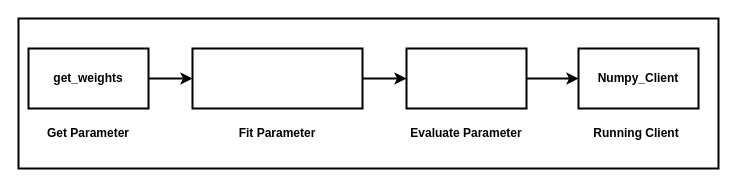
Image size: 736x186. Some labels were removed from this diagram. The centre of each missing label's shape, as x and y in pixels:
"set_weights loss and accuracy" belongs at point (466, 78).
"set_weights new get_weights" belongs at point (277, 78).
